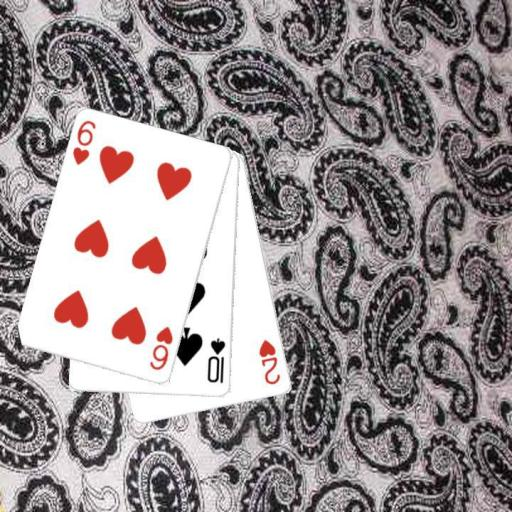10S: (205, 335, 228, 385)
2H: (256, 336, 282, 387)
6H: (146, 324, 175, 373), (70, 117, 98, 167)
